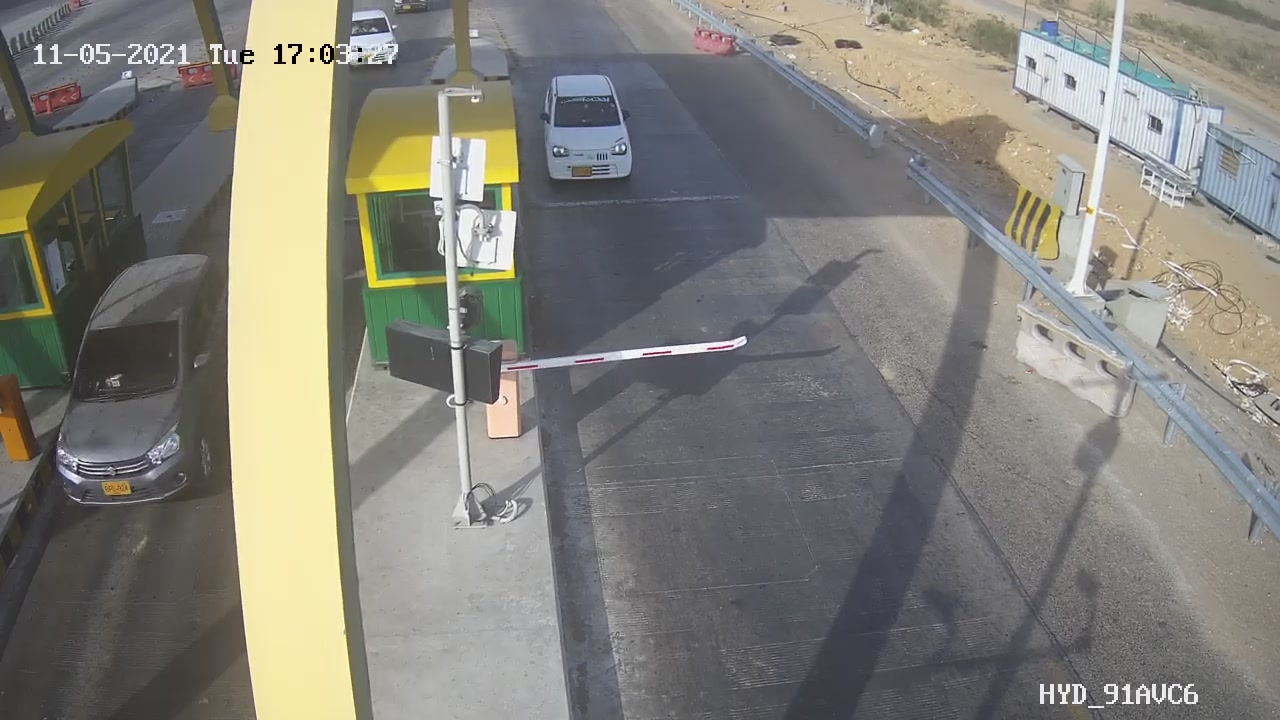F1: (525, 55, 659, 204)
